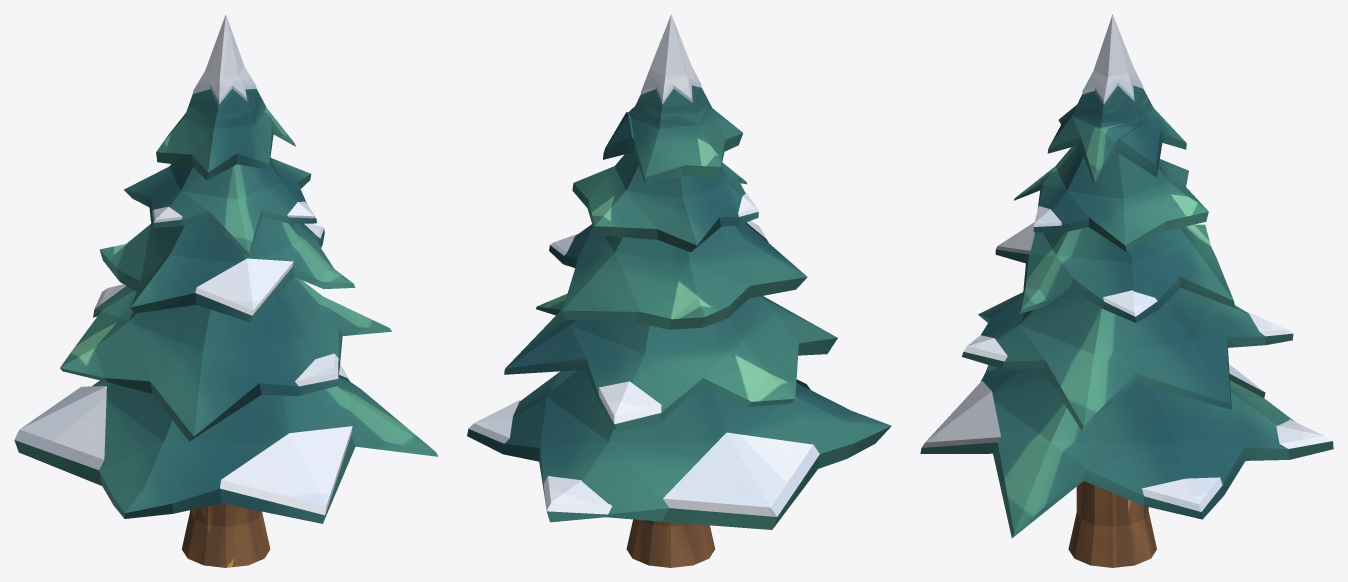
The model's file is Tree_1.fbx.
3 renders of one model, left to right at view 1: azimuth 30°, elevation 25°; view 2: azimuth 150°, elevation 25°; view 3: azimuth 270°, elevation 25°, orthographic.
Visible parts, largest first — view 1: Tree; view 2: Tree; view 3: Tree.
Boxes of the visible parts, x1=… form: Tree: x1=14, y1=14, x2=438, y2=567; Tree: x1=467, y1=14, x2=891, y2=567; Tree: x1=920, y1=14, x2=1333, y2=567.
Size of the model in its own units: 3.16 by 4.99 by 3.5.
